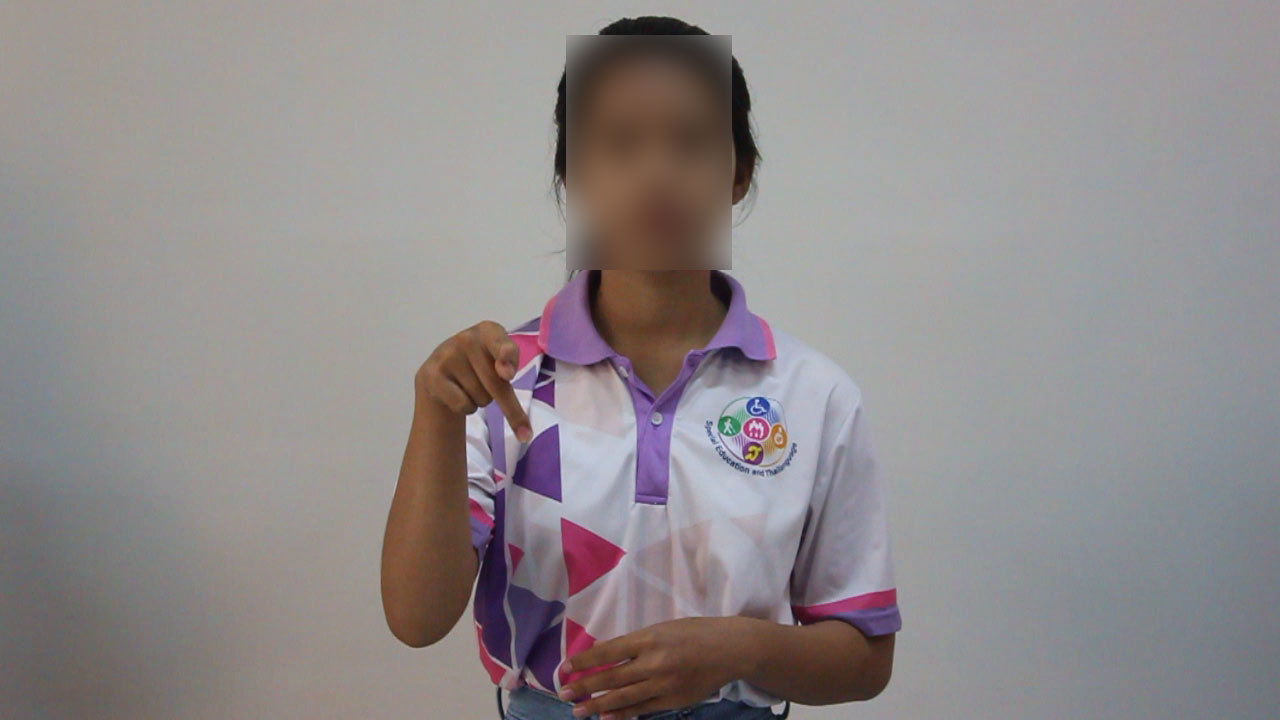por: (406, 297, 542, 460)
